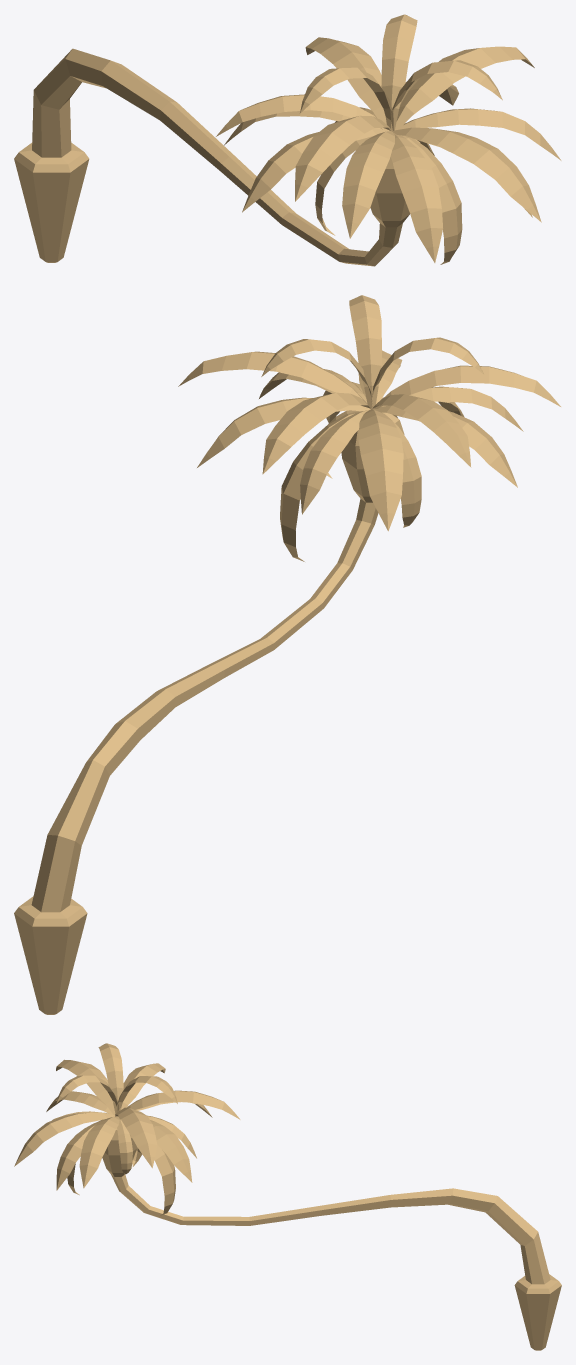
File: Mega_Asset_s_Pack_Cylinder_008.FBX
The picture shows the model from 3 angles, top to bottom: view 1: azimuth 30°, elevation 25°; view 2: azimuth 150°, elevation 25°; view 3: azimuth 270°, elevation 25°; orthographic projection. The views are drawn at different scales.
Visible parts, largest first — view 1: Mega_Asset_s_Pack_Cylinder_008; view 2: Mega_Asset_s_Pack_Cylinder_008; view 3: Mega_Asset_s_Pack_Cylinder_008.
Part boxes in pixels (x1=…): Mega_Asset_s_Pack_Cylinder_008: x1=14, y1=14, x2=561, y2=266; Mega_Asset_s_Pack_Cylinder_008: x1=14, y1=295, x2=560, y2=1014; Mega_Asset_s_Pack_Cylinder_008: x1=14, y1=1043, x2=561, y2=1350.
Size of what is drawn, in the model's own units: 425 by 998 by 574.
